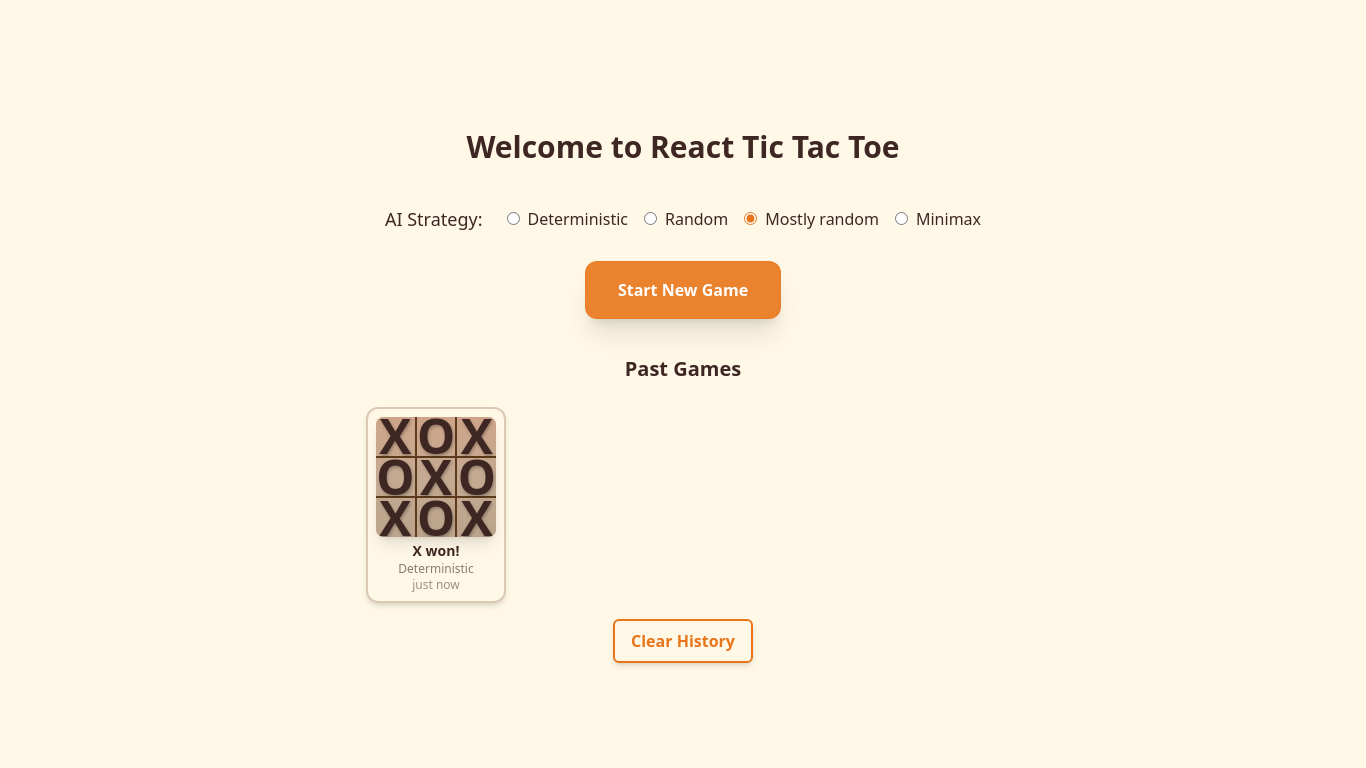
Scenario: App › Clear History confirmation dialog › closes dialog without clearing history when Cancel is clicked
Click the button with test id "clear-history-button".
click(683, 641)  # box [613,619,753,663]
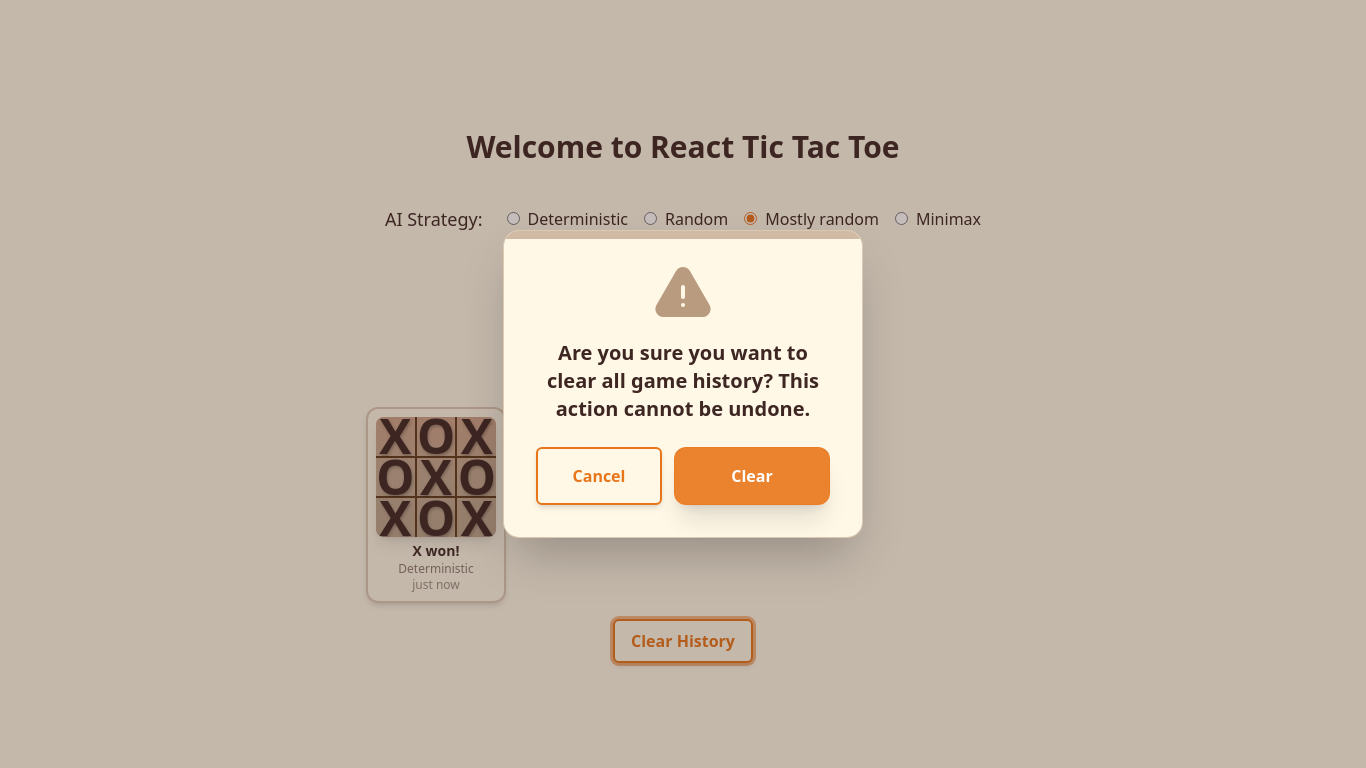
Click the button "Cancel".
click(599, 476)  # box [536,447,662,505]
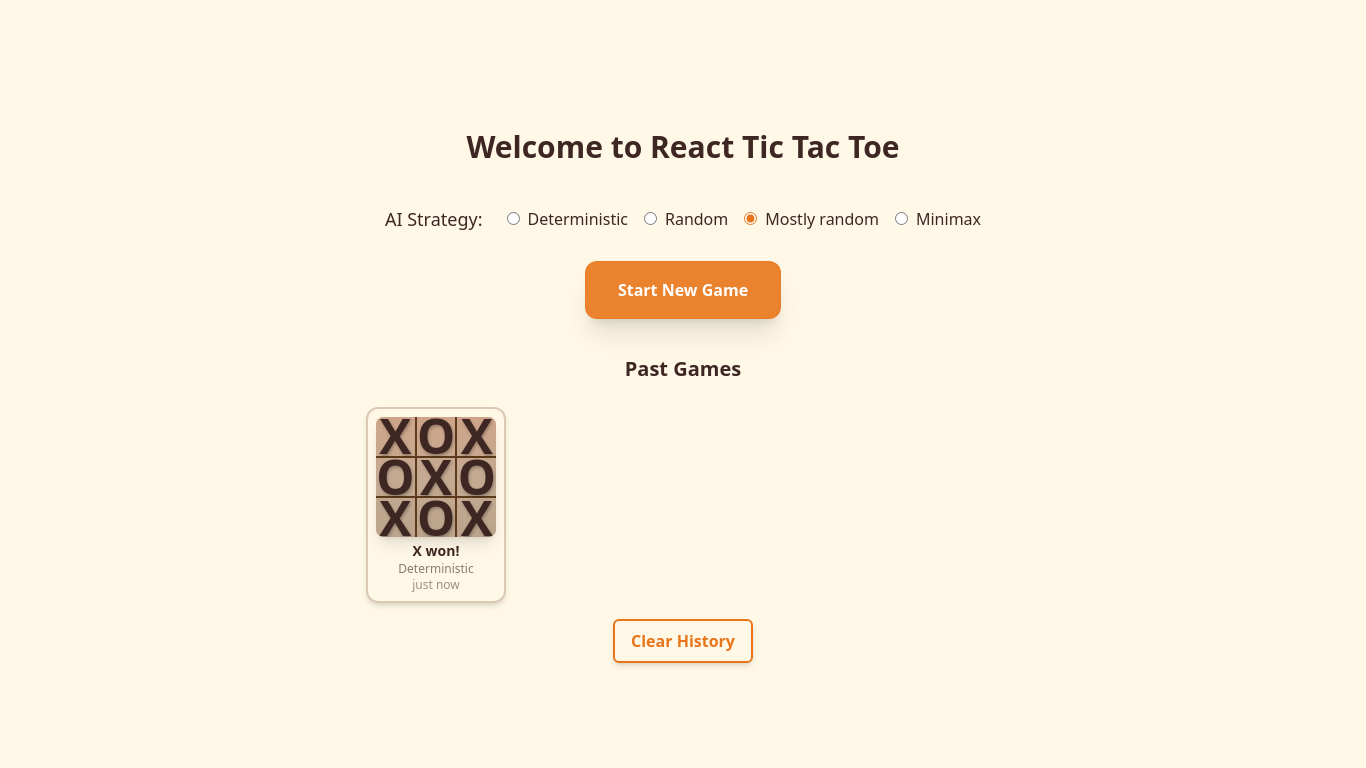
Expected: the element with test id "past-games-list" is shown, [366,407,506,603]
Now the text with test id "clear-history-dialog-message" is gone
